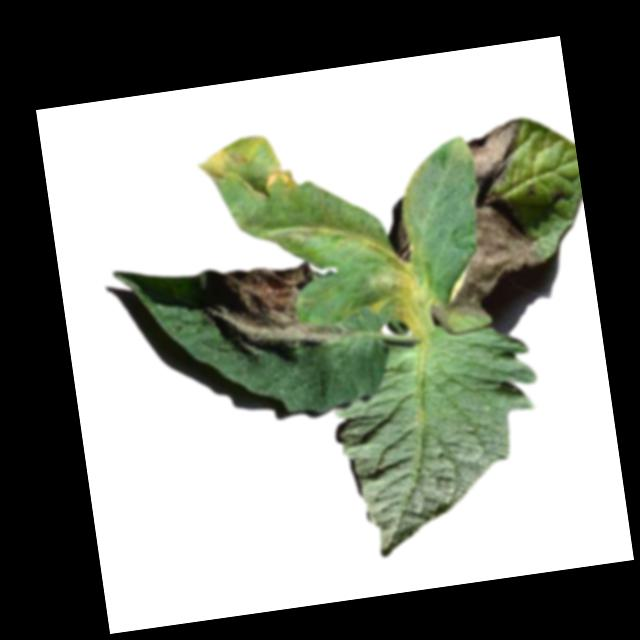Late_blight: (425, 118, 548, 320), (194, 251, 339, 364), (194, 129, 301, 209), (359, 248, 431, 329), (382, 196, 417, 267), (430, 300, 453, 332)
healthy: (326, 322, 562, 560)
